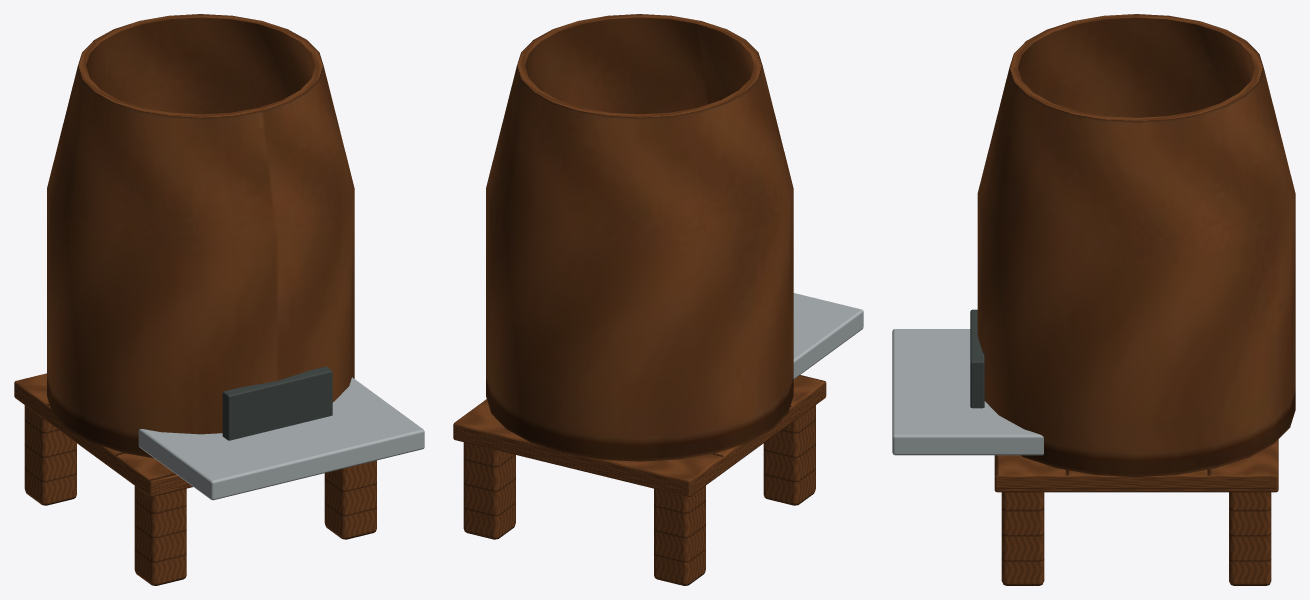
File: creature-husbandry-and-transport-forage-dispenser-abf45485__23996.glb
3 views of the same model, side by side, from view 1: azimuth 30°, elevation 25°; view 2: azimuth 150°, elevation 25°; view 3: azimuth 270°, elevation 25° (orthographic). The views are drawn at different scales.
Parts seen in each view (by area): view 1: forage-dispenser; view 2: forage-dispenser; view 3: forage-dispenser.
Part boxes in pixels (box(x1,y1,x2,y2)): forage-dispenser: box(14, 14, 424, 585); forage-dispenser: box(453, 14, 863, 585); forage-dispenser: box(892, 14, 1295, 585).
Size of the model in its own units: 0.56 by 0.9 by 0.71.
Materials: 3 (1 with a texture image).
